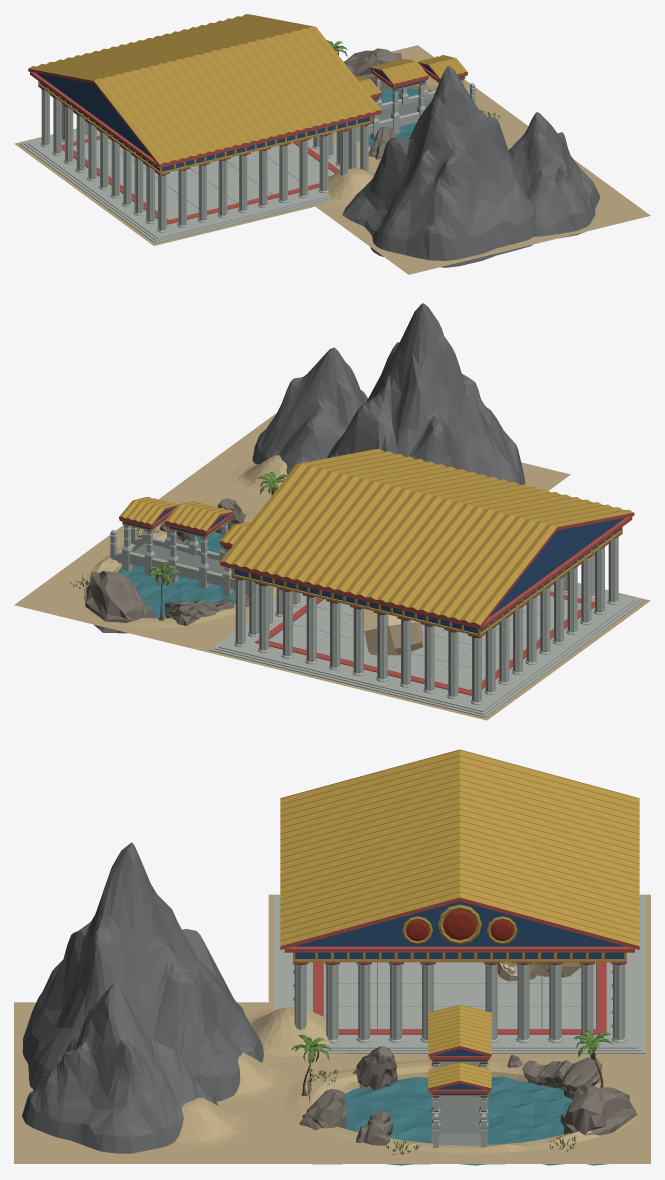
File: temple_area_2.glb
The picture shows the model from 3 angles, top to bottom: view 1: azimuth 30°, elevation 25°; view 2: azimuth 150°, elevation 25°; view 3: azimuth 270°, elevation 25°; orthographic projection. The views are drawn at different scales.
Parts seen in each view (by area): view 1: Cube.040, SM_Terrain_Mountain_01, Plane.001, SM_Terrain_Mountain_01.001, Cube.041, SM_Env_Beach_02.003, SM_Env_Rock_Huge_04.001, SM_Env_Dirt_Tile_Large_01, SM_Env_Rock_Large_04.002; view 2: Cube.040, SM_Terrain_Mountain_01, Plane.001, Cube.041, SM_Terrain_Mountain_01.001, SM_Env_Dirt_Tile_Large_01, SM_Env_Rock_Huge_04.001, Plane.002, SM_Env_Beach_02.001, SM_Prop_Skeleton_Slave_Lying_01.001, SM_Env_Rock_Large_08.001; view 3: Cube.040, SM_Terrain_Mountain_01, Plane.001, SM_Terrain_Mountain_01.001, SM_Env_Dirt_Tile_Large_01, Cube.041, Plane.002, SM_Env_Beach_02.003, SM_Env_Beach_02.001, SM_Env_Rock_Huge_04.001, SM_Env_Rock_Large_08.001, SM_Env_Beach_02.002 (+5 smaller).
Boxes of the visible parts, x1=… form: Cube.040: x1=19, y1=14, x2=381, y2=243; SM_Terrain_Mountain_01: x1=342, y1=65, x2=533, y2=267; Plane.001: x1=14, y1=45, x2=650, y2=274; SM_Terrain_Mountain_01.001: x1=508, y1=112, x2=600, y2=238; Cube.041: x1=355, y1=55, x2=475, y2=142; SM_Env_Beach_02.003: x1=323, y1=166, x2=377, y2=207; SM_Env_Rock_Huge_04.001: x1=344, y1=48, x2=401, y2=90; SM_Env_Dirt_Tile_Large_01: x1=368, y1=87, x2=418, y2=147; SM_Env_Rock_Large_04.002: x1=368, y1=127, x2=395, y2=159; Cube.040: x1=209, y1=449, x2=644, y2=717; SM_Terrain_Mountain_01: x1=327, y1=303, x2=525, y2=484; Plane.001: x1=14, y1=413, x2=650, y2=720; Cube.041: x1=110, y1=497, x2=250, y2=598; SM_Terrain_Mountain_01.001: x1=252, y1=347, x2=367, y2=474; SM_Env_Dirt_Tile_Large_01: x1=118, y1=532, x2=235, y2=618; SM_Env_Rock_Huge_04.001: x1=85, y1=571, x2=154, y2=633; Plane.002: x1=83, y1=511, x2=276, y2=628; SM_Env_Beach_02.001: x1=225, y1=455, x2=287, y2=498; SM_Prop_Skeleton_Slave_Lying_01.001: x1=364, y1=609, x2=422, y2=655; SM_Env_Rock_Large_08.001: x1=164, y1=599, x2=233, y2=625; Cube.040: x1=274, y1=749, x2=645, y2=1053; SM_Terrain_Mountain_01: x1=22, y1=842, x2=263, y2=1101; Plane.001: x1=14, y1=894, x2=650, y2=1163; SM_Terrain_Mountain_01.001: x1=22, y1=982, x2=218, y2=1153; SM_Env_Dirt_Tile_Large_01: x1=312, y1=1076, x2=607, y2=1165; Cube.041: x1=428, y1=1005, x2=491, y2=1148; Plane.002: x1=284, y1=1059, x2=641, y2=1153; SM_Env_Beach_02.003: x1=246, y1=1007, x2=351, y2=1061; SM_Env_Beach_02.001: x1=164, y1=1097, x2=248, y2=1148; SM_Env_Rock_Huge_04.001: x1=560, y1=1084, x2=637, y2=1135; SM_Env_Rock_Large_08.001: x1=522, y1=1057, x2=601, y2=1099; SM_Env_Beach_02.002: x1=222, y1=1052, x2=284, y2=1100.
Size of what is drawn, in the model's own units: 80 by 33.03 by 80.
Materials: 3 (3 with a texture image).
